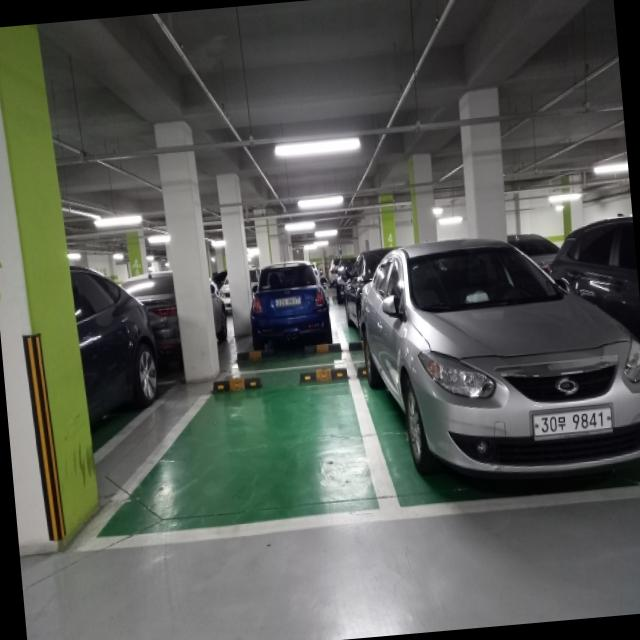car: (353, 227, 640, 505), (244, 258, 334, 355)
free: (74, 358, 378, 542)
